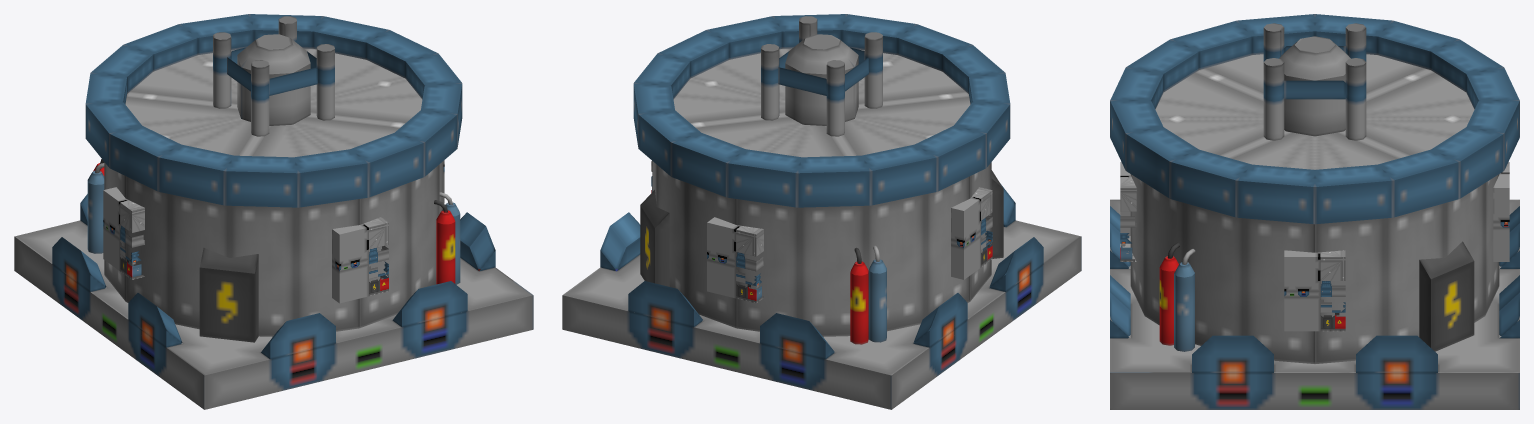
File: cyclotron.obj
The picture shows the model from 3 angles, left to right: view 1: azimuth 30°, elevation 25°; view 2: azimuth 150°, elevation 25°; view 3: azimuth 270°, elevation 25°; orthographic projection. The views are drawn at different scales.
Parts seen in each view (by area): view 1: Body, B1, B4; view 2: Body, B2, B4; view 3: Body, B3, B2, B1.
Part boxes in pixels (x1,y1,x2,y2): Body: (14, 14, 533, 409); B1: (332, 217, 388, 303); B4: (103, 187, 144, 279); Body: (562, 14, 1081, 409); B2: (707, 217, 763, 303); B4: (951, 187, 992, 279); Body: (1110, 14, 1519, 409); B3: (1284, 250, 1345, 331); B2: (1493, 162, 1509, 261); B1: (1120, 162, 1136, 261).
Size of the model in its own units: 5 by 3.75 by 5.
